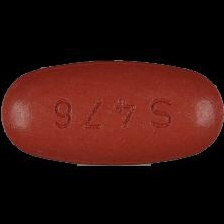0179-0142: (0, 0, 224, 224)
